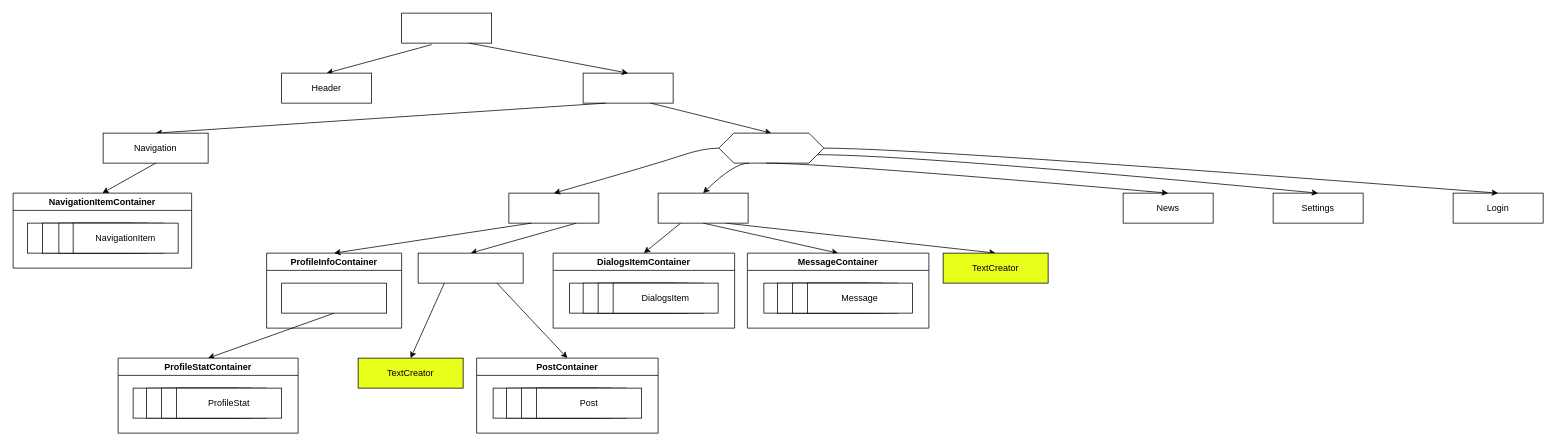
This 1556x446 diagram has some shape labels left out. The shapes that lost their labels are listed below. From the top down, each one's centre as x and y in pixels, then its label:
the point at 446,27: App
the point at 627,87: Body
the point at 771,147: Base
the point at 553,207: Profile
the point at 702,207: Dialogs
the point at 470,267: PostWrapper
the point at 334,297: ProfileInfo
